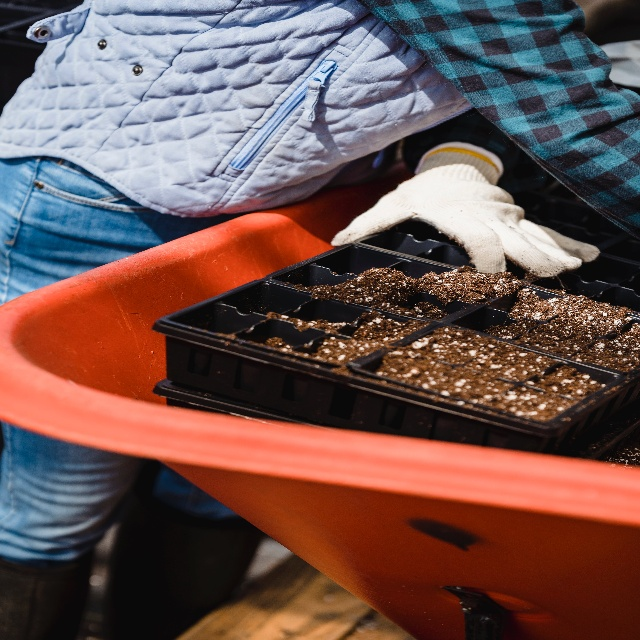Guantes: (328, 141, 599, 278)
